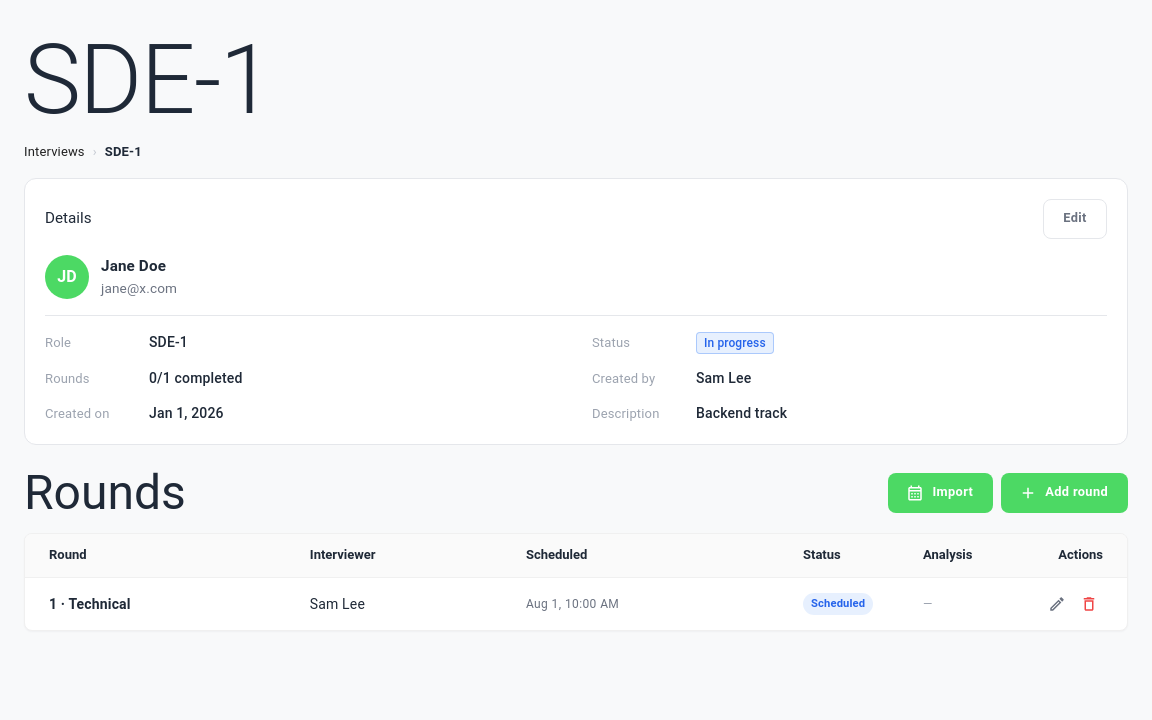
Test: ProcessDetailPage — add round dialog › opens the Add round dialog
The image size is (1152, 720).
Expected: the heading "SDE-1" is shown, [24,24,272,136]
Click the button "Add round" at (1065, 492), box [1001,472,1128,512]
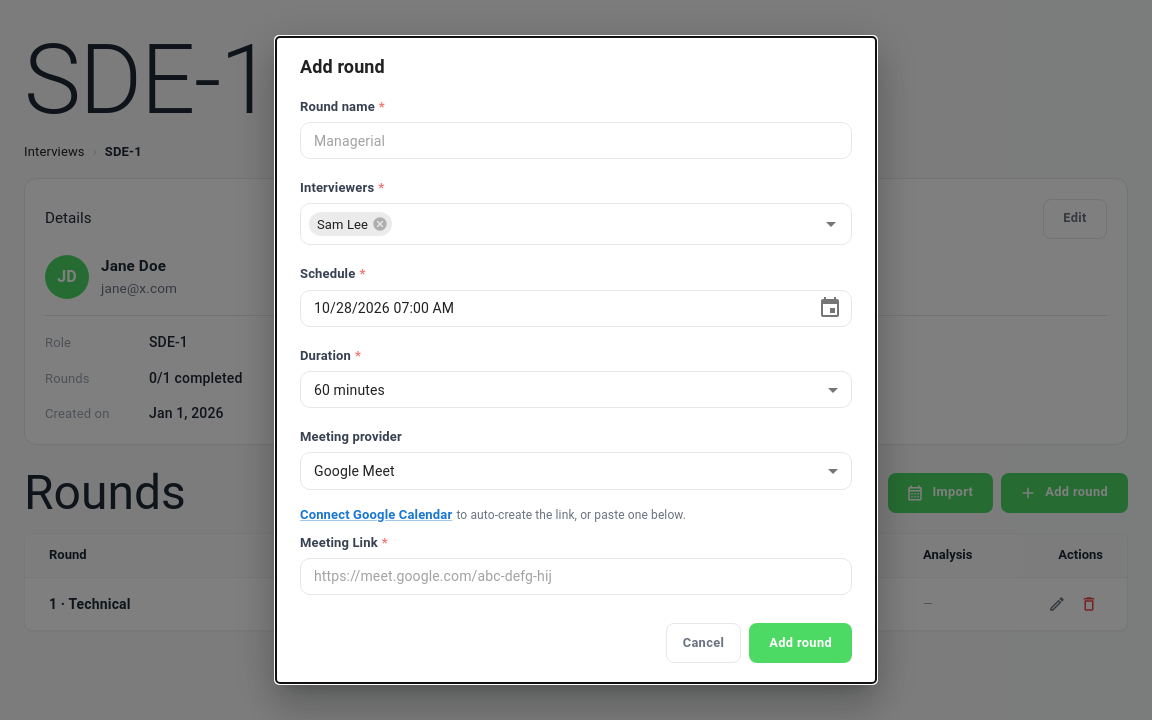
Result: the heading "Add round" is shown at [300,56,385,77]
